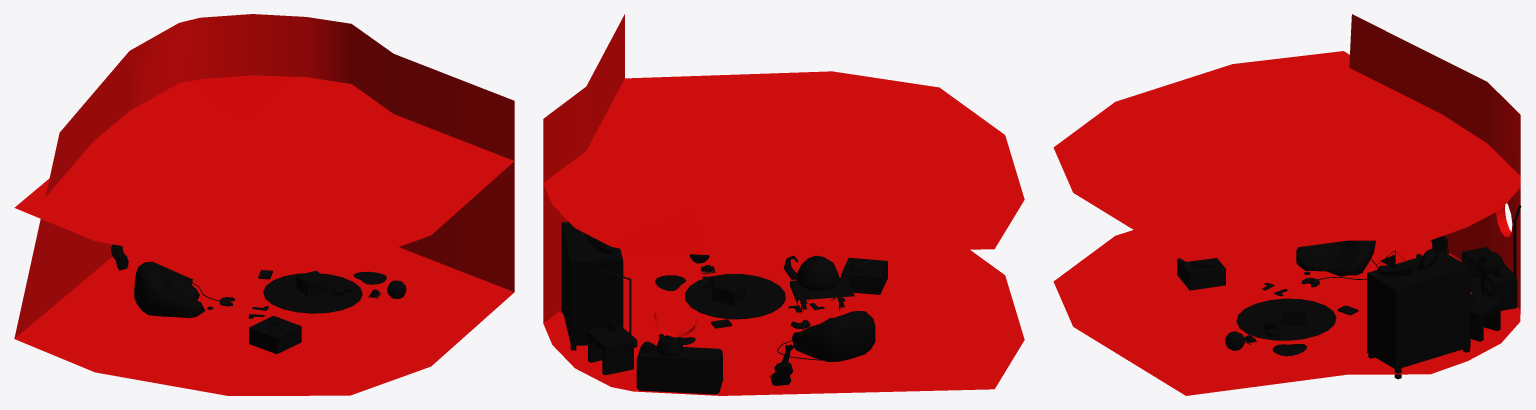
File: DressUp_Boy_01.glb
3 renders of one model, left to right at view 1: azimuth 30°, elevation 25°; view 2: azimuth 150°, elevation 25°; view 3: azimuth 270°, elevation 25°, orthographic. The views are drawn at different scales.
Visible parts, largest first — view 1: Walls1, Ceiling, Items; view 2: Ceiling, Walls1, Items; view 3: Ceiling, Walls1, Items.
Part boxes in pixels (box(x1,y1,x2,y2)): Walls1: box(14, 14, 514, 395); Ceiling: box(14, 75, 514, 264); Items: box(111, 244, 406, 354); Ceiling: box(543, 71, 1024, 255); Walls1: box(543, 14, 1024, 395); Items: box(561, 222, 887, 394); Ceiling: box(1053, 51, 1520, 261); Walls1: box(1053, 14, 1520, 395); Items: box(1177, 205, 1521, 379).
Size of the model in its own units: 11.79 by 5.24 by 11.05.
